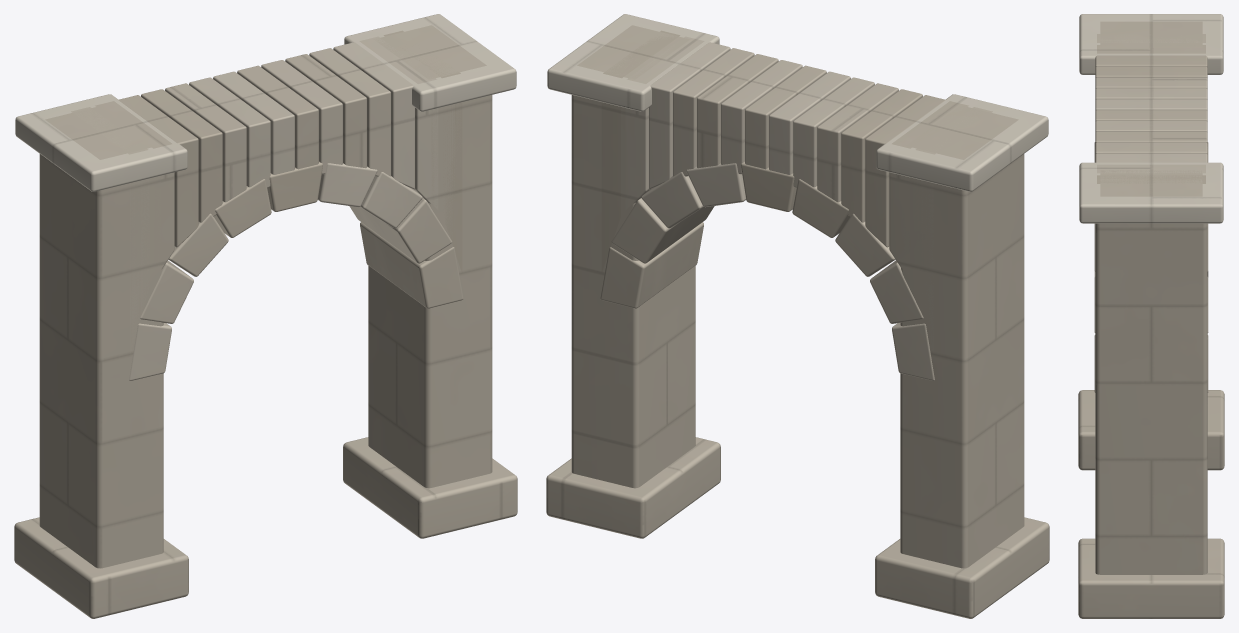
Rendered from BG_ENV_SURFACE_ARCH_001.glb.
The picture shows the model from 3 angles, left to right: view 1: azimuth 30°, elevation 25°; view 2: azimuth 150°, elevation 25°; view 3: azimuth 270°, elevation 25°; orthographic projection. The views are drawn at different scales.
Visible parts, largest first — view 1: BG_ENV_SURFACE_ARCH_001_mesh; view 2: BG_ENV_SURFACE_ARCH_001_mesh; view 3: BG_ENV_SURFACE_ARCH_001_mesh.
Part boxes in pixels (box(x1,y1,x2,y2)): BG_ENV_SURFACE_ARCH_001_mesh: box(14, 14, 517, 618); BG_ENV_SURFACE_ARCH_001_mesh: box(546, 14, 1049, 618); BG_ENV_SURFACE_ARCH_001_mesh: box(1078, 14, 1224, 618).
Size of the model in its own units: 2.16 by 2.16 by 0.69.
Materials: 1 (1 with a texture image).
